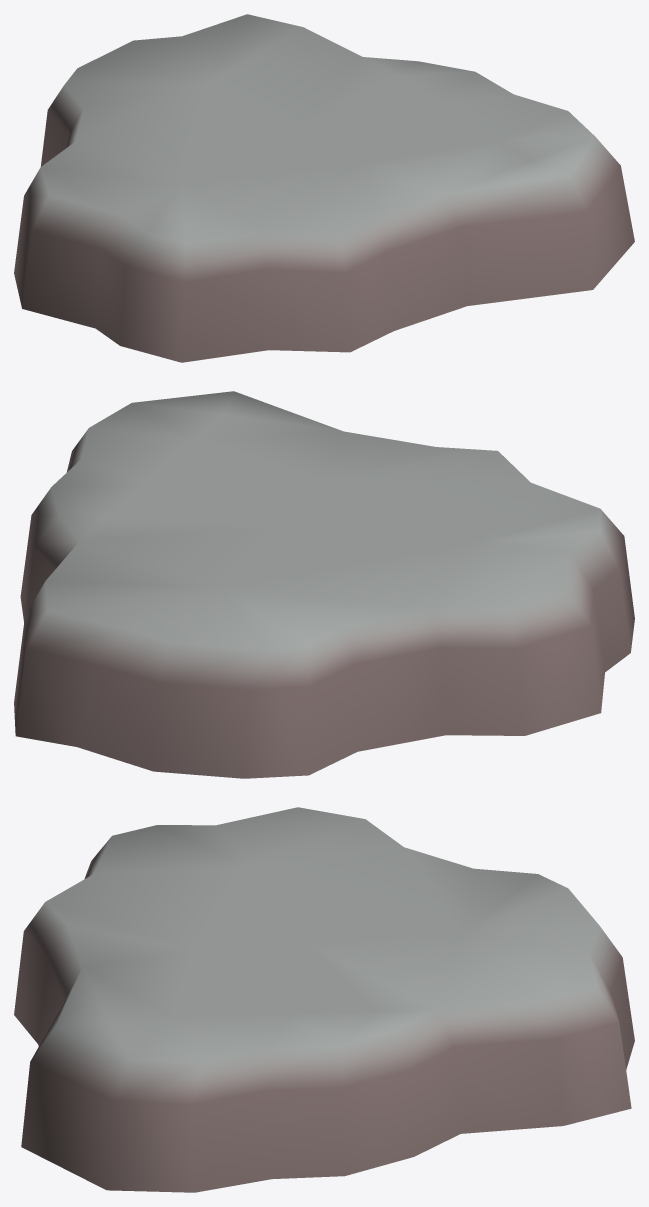
The picture shows the model from 3 angles, top to bottom: view 1: azimuth 30°, elevation 25°; view 2: azimuth 150°, elevation 25°; view 3: azimuth 270°, elevation 25°; orthographic projection. The views are drawn at different scales.
Visible parts, largest first — view 1: G:\FFXIV-MapTools\exports\u5f1\bg\ex4\04_uvs_u5\fld\u5f1\bgp (×2); view 2: G:\FFXIV-MapTools\exports\u5f1\bg\ex4\04_uvs_u5\fld\u5f1\bgp (×2); view 3: G:\FFXIV-MapTools\exports\u5f1\bg\ex4\04_uvs_u5\fld\u5f1\bgp (×2).
Part boxes in pixels (x1,y1,x2,y2): G:\FFXIV-MapTools\exports\u5f1\bg\ex4\04_uvs_u5\fld\u5f1\bgp (×2): (14,14,634,362); G:\FFXIV-MapTools\exports\u5f1\bg\ex4\04_uvs_u5\fld\u5f1\bgp (×2): (14,391,634,778); G:\FFXIV-MapTools\exports\u5f1\bg\ex4\04_uvs_u5\fld\u5f1\bgp (×2): (14,807,634,1192).
Size of the model in its own units: 14.23 by 2.68 by 13.05.
